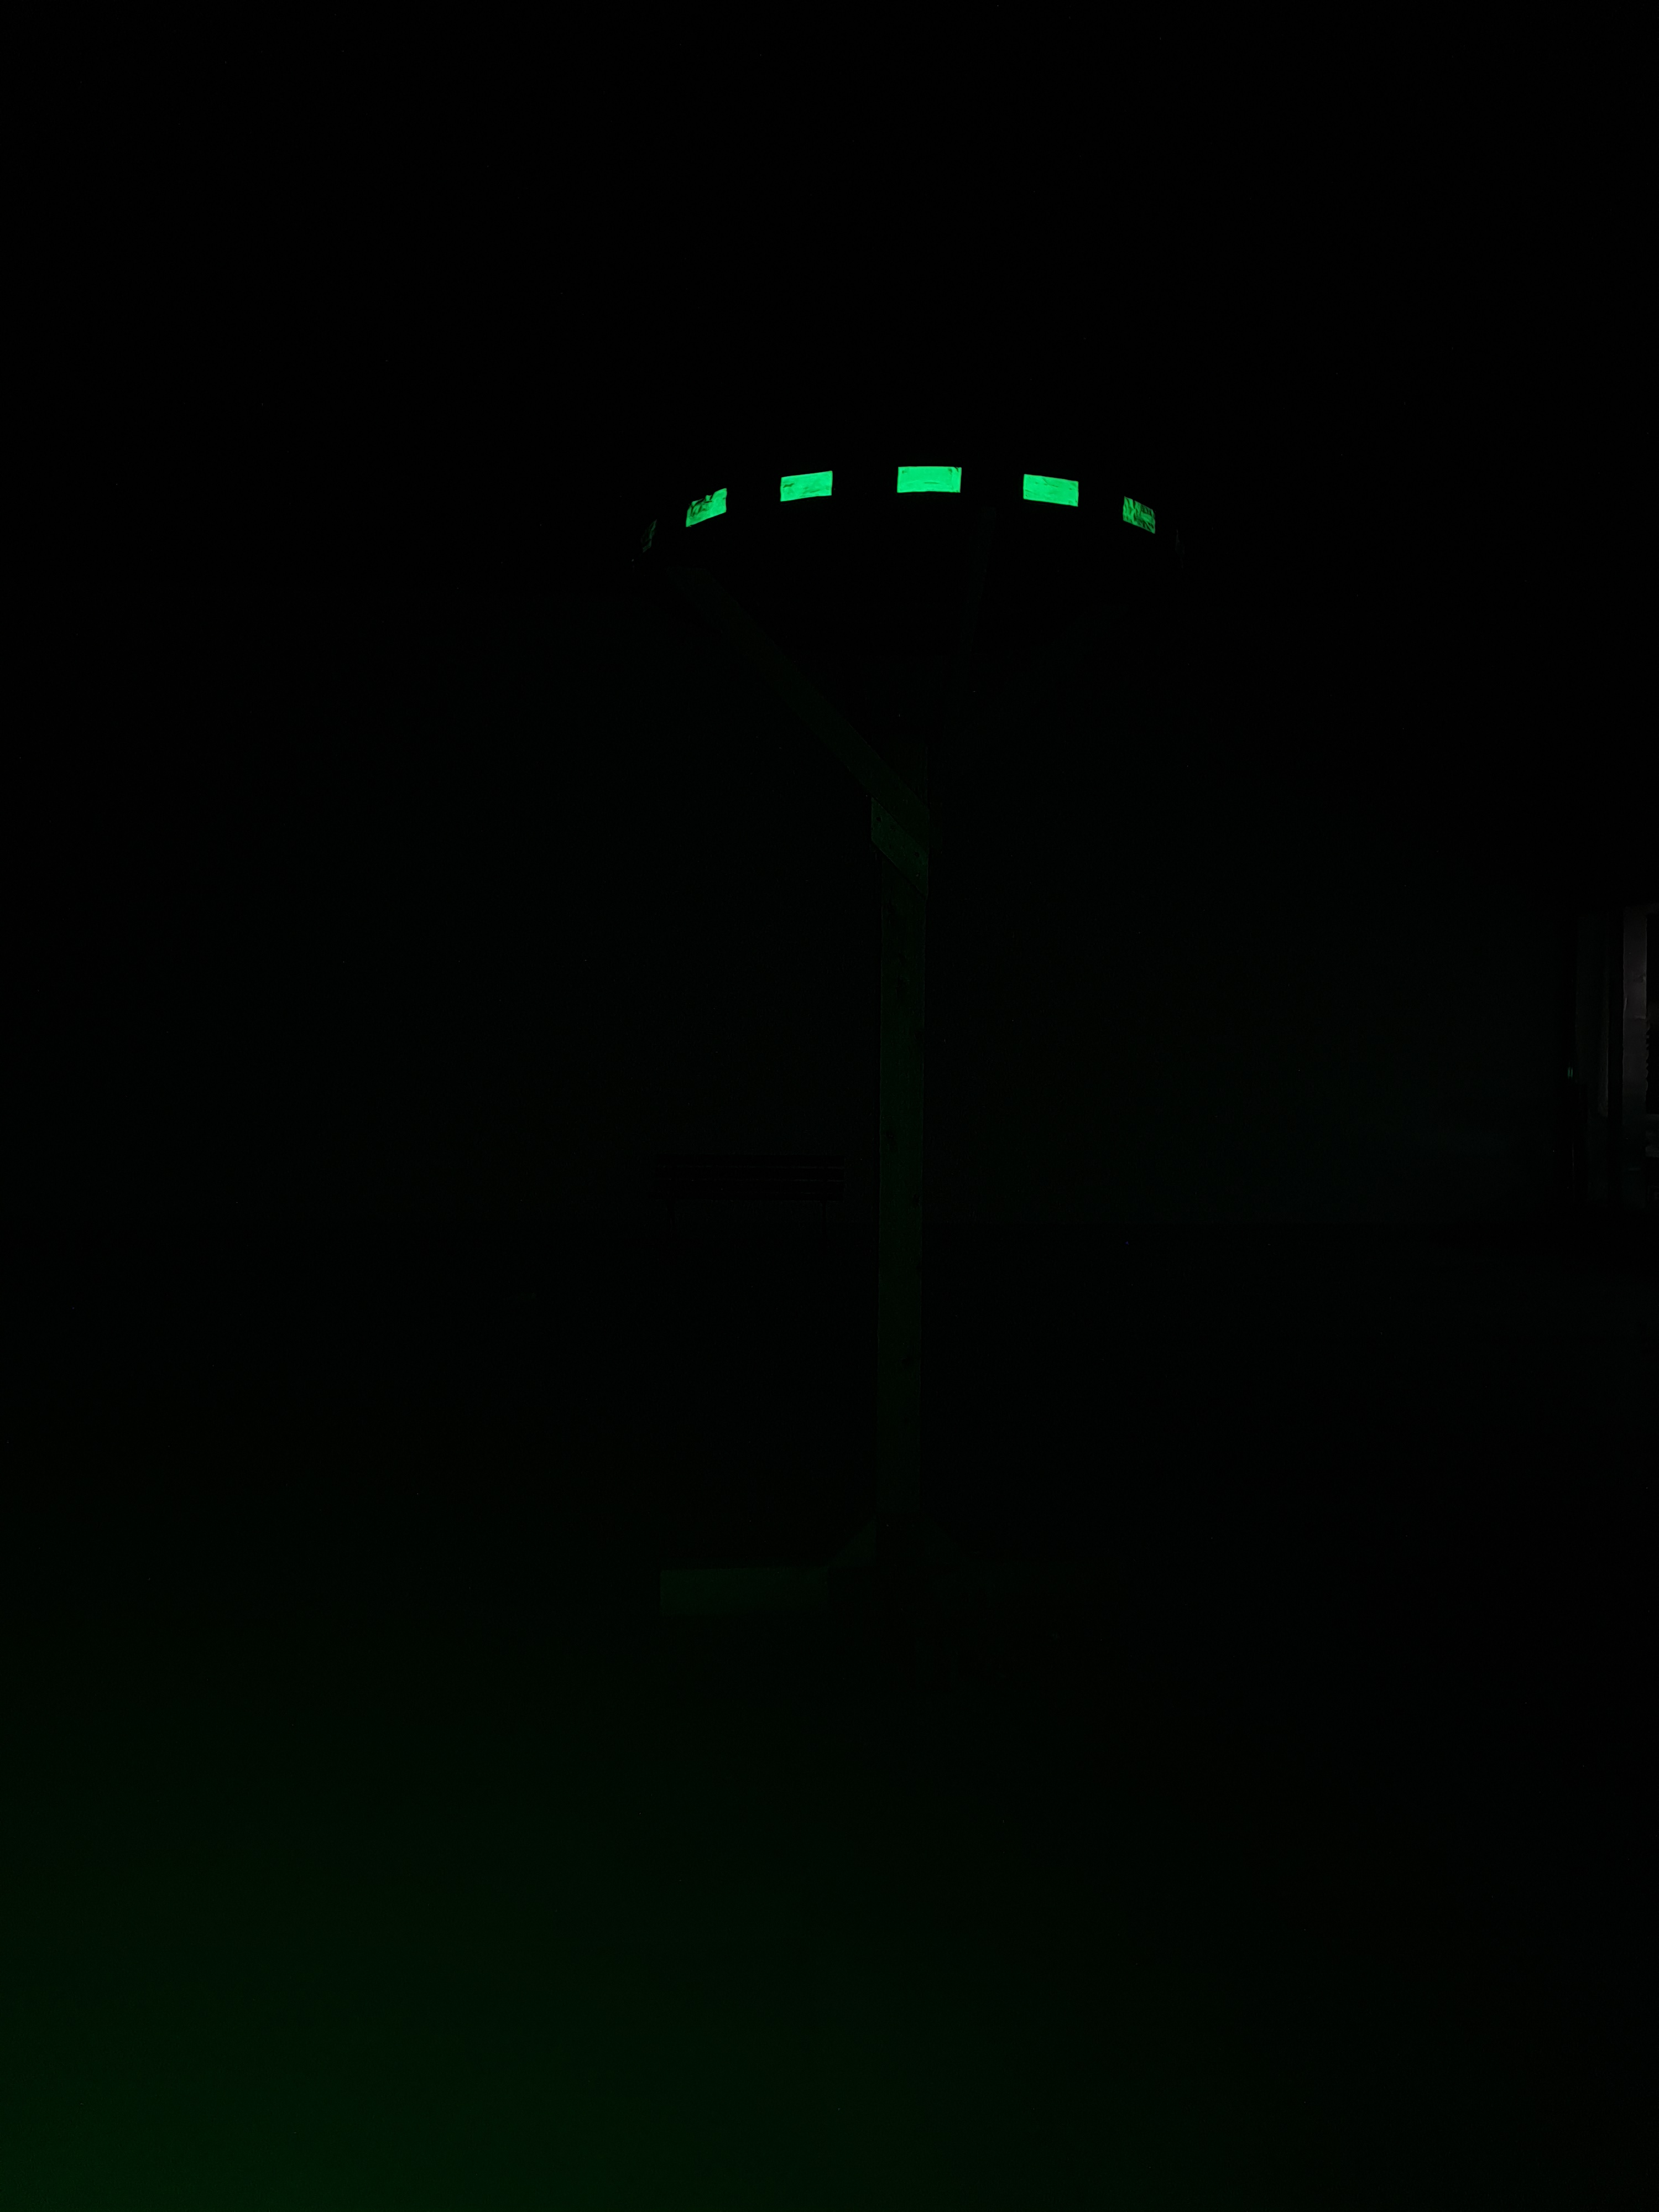hoop: (685, 460, 1157, 535)
